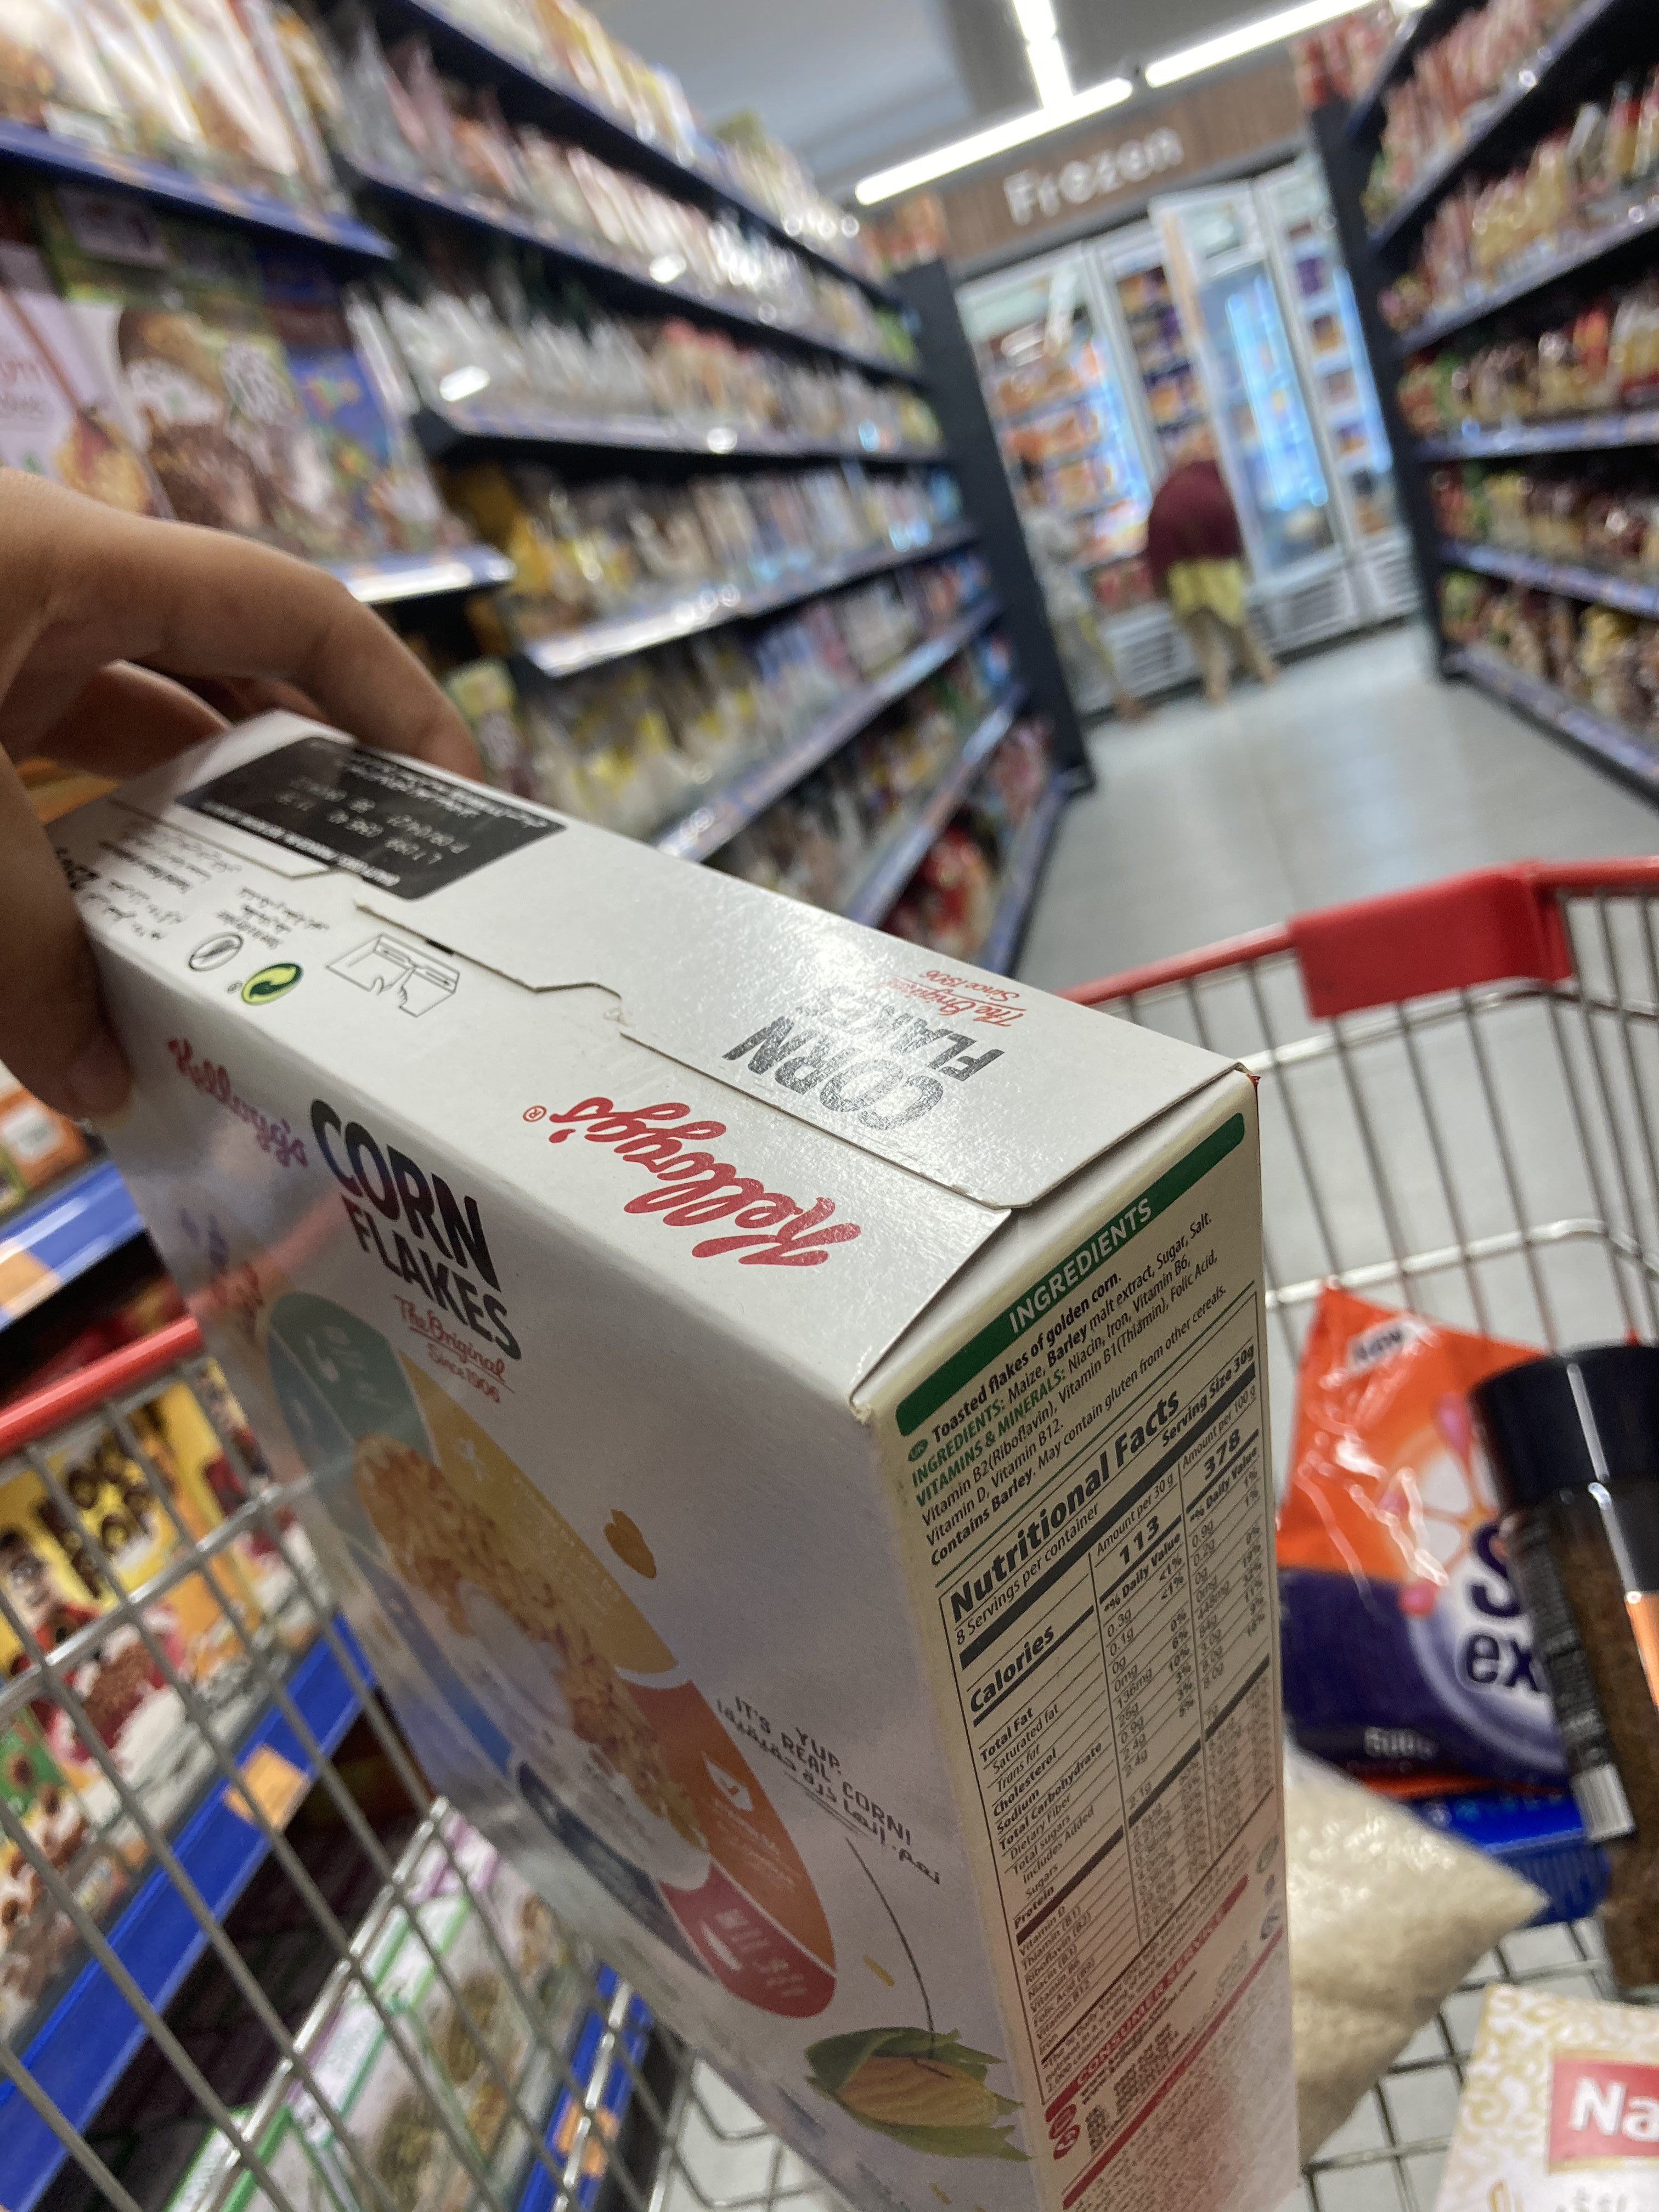Kellogg's Corn Flakes: (23, 709, 1321, 2200)
